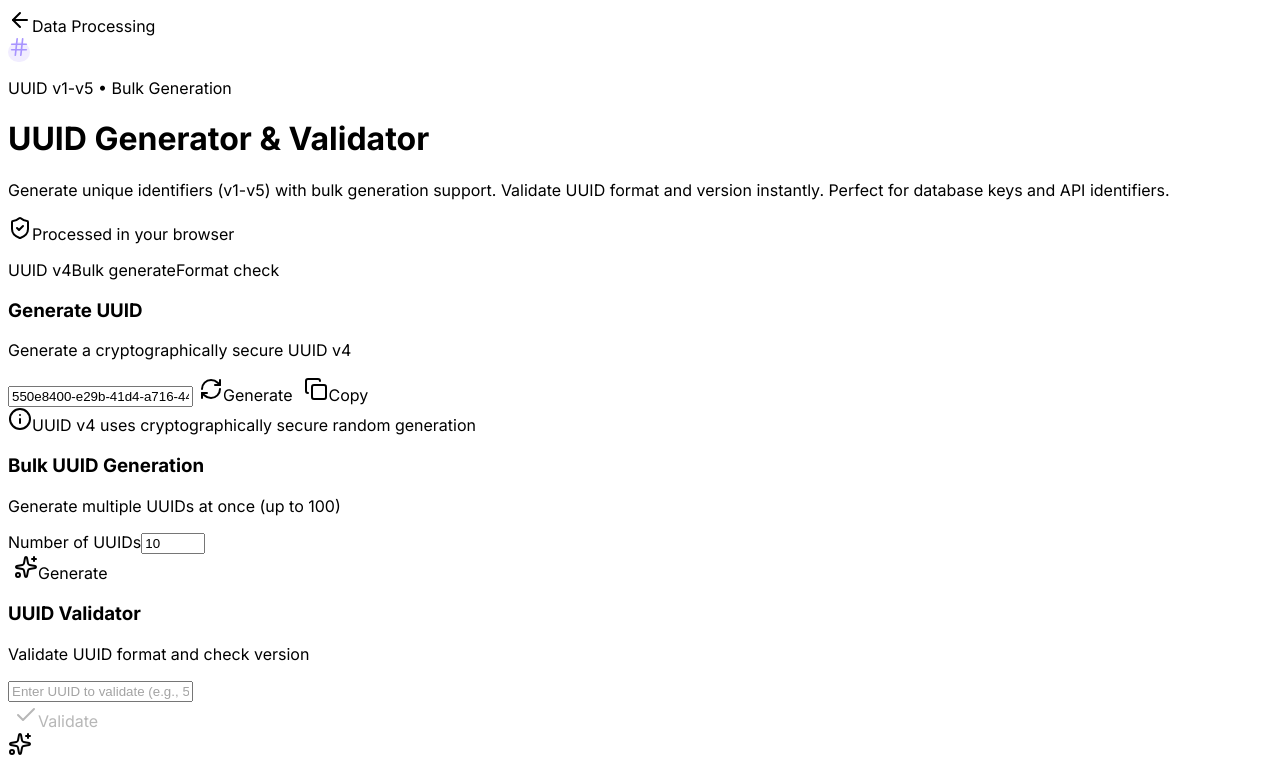
it: UUID Generator Page › UUID Validation › shows error for invalid UUID format
Replace the text in the field with placeholder "Enter UUID to validate" with "invalid-uuid" at [100, 692], box x1=8 y1=681 x2=193 y2=702
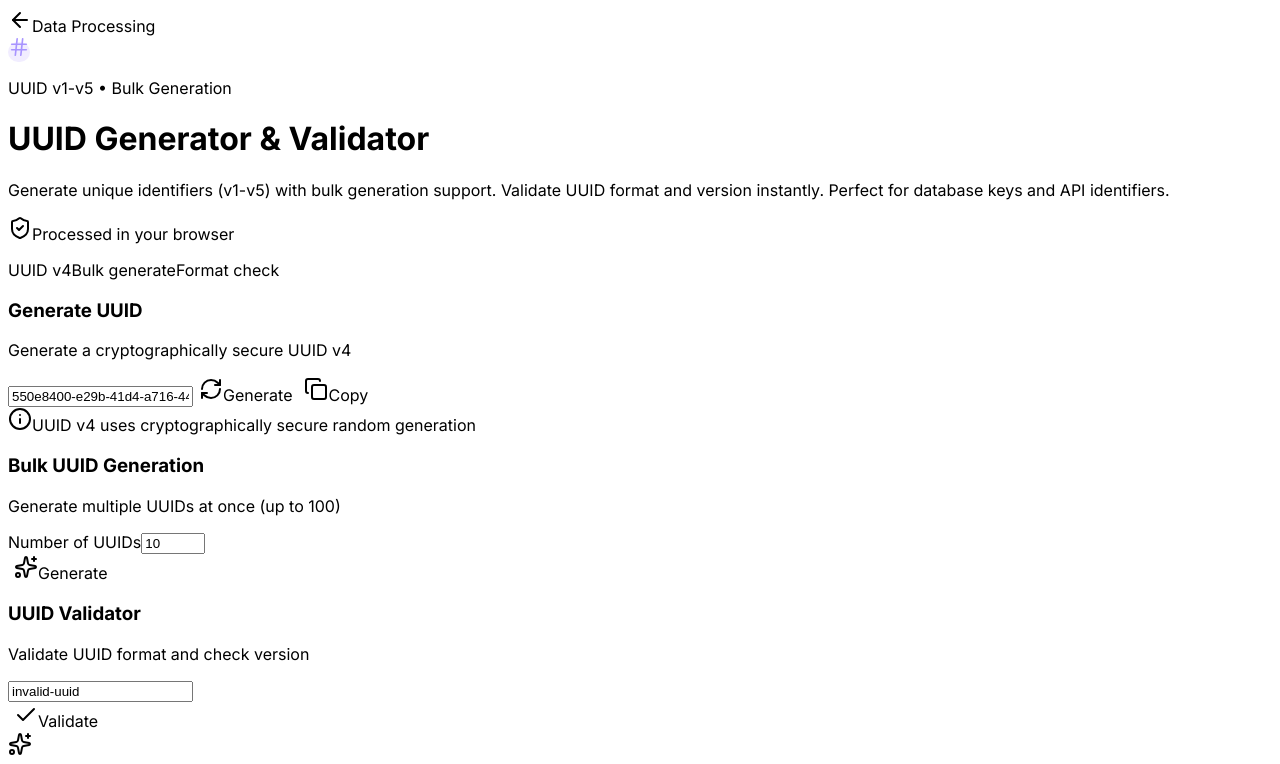
Click the button "Validate".
click(56, 717)  # box x1=8 y1=702 x2=104 y2=732
(page scrolled)
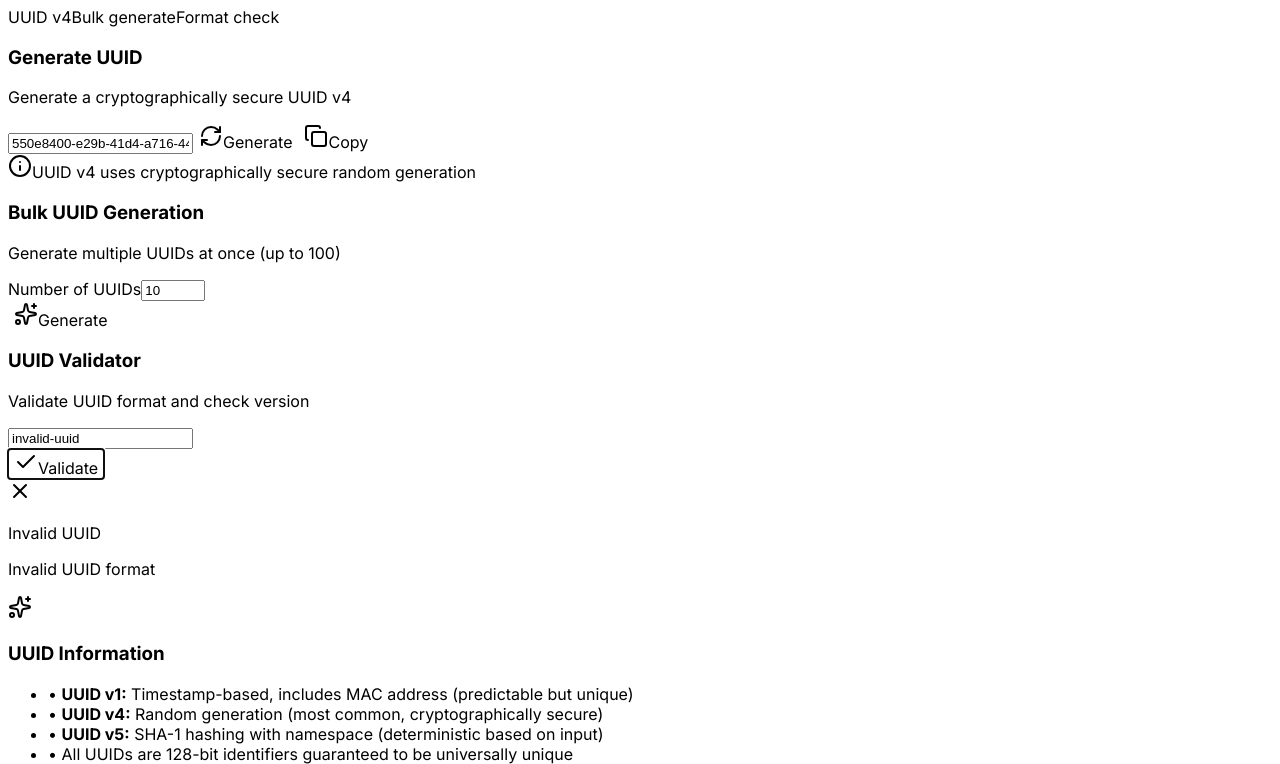
Expected: the text "Invalid UUID" is shown, x1=8 y1=523 x2=101 y2=543
Expected: the text "Invalid UUID format" is shown, x1=8 y1=559 x2=155 y2=579
